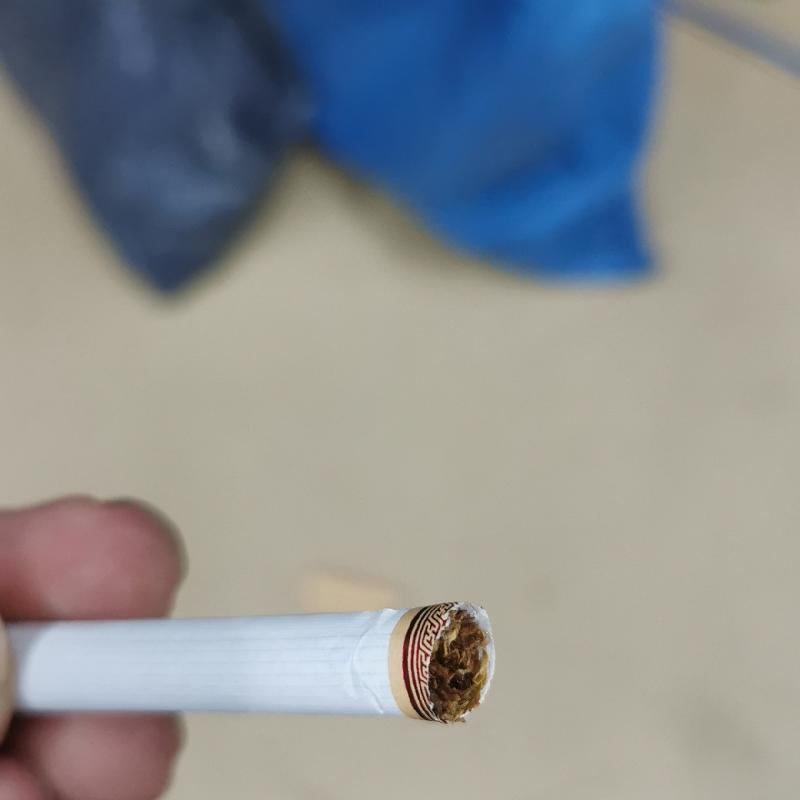cigarette: (1, 599, 492, 728)
